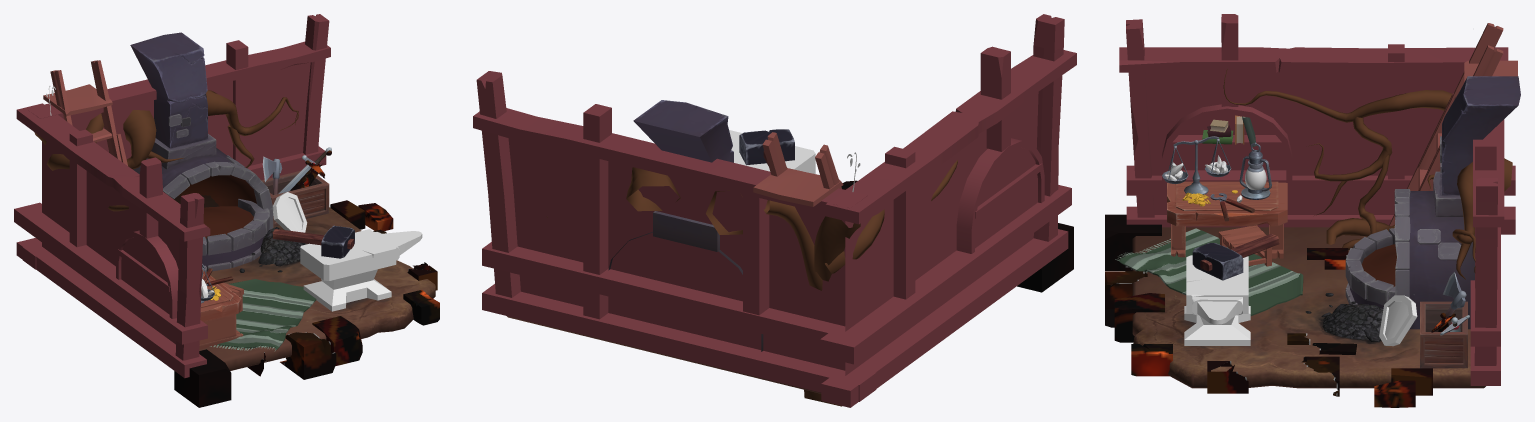
File: Forge_SketchFab.fbx
The picture shows the model from 3 angles, left to right: view 1: azimuth 30°, elevation 25°; view 2: azimuth 150°, elevation 25°; view 3: azimuth 270°, elevation 25°; orthographic projection. The views are drawn at different scales.
Visible parts, largest first — view 1: Walls, Oven, Blocks, Ground, Forge, Carpet, Roots, bookshelf, Stairs, Table, Box, Hammer (+5 smaller); view 2: Walls, bookshelf, Oven, Roots, Stairs, Blocks, Hammer, Forge, Ground; view 3: Walls, Ground, Oven, Blocks, Roots, bookshelf, Table, Forge, Carpet, Stairs, Box, Hammer (+8 smaller).
Part boxes in pixels (<box>): Walls: <box>14,14,330,378</box>; Oven: <box>130,32,273,271</box>; Blocks: <box>174,200,439,407</box>; Ground: <box>199,207,435,370</box>; Forge: <box>300,229,422,311</box>; Carpet: <box>210,279,316,351</box>; Roots: <box>34,90,298,211</box>; bookshelf: <box>116,230,178,318</box>; Stairs: <box>43,60,127,165</box>; Table: <box>199,269,243,349</box>; Box: <box>261,170,329,226</box>; Hammer: <box>272,225,354,258</box>; Walls: <box>473,14,1076,407</box>; bookshelf: <box>956,138,1044,253</box>; Oven: <box>608,100,763,351</box>; Roots: <box>547,160,957,406</box>; Stairs: <box>753,132,843,206</box>; Blocks: <box>841,180,1073,292</box>; Hammer: <box>739,129,794,167</box>; Forge: <box>729,130,815,173</box>; Ground: <box>507,316,821,393</box>; Walls: <box>1119,14,1515,385</box>; Ground: <box>1132,227,1485,388</box>; Oven: <box>1345,76,1520,330</box>; Blocks: <box>1105,214,1432,407</box>; Roots: <box>1223,68,1512,279</box>; bookshelf: <box>1162,104,1292,186</box>; Table: <box>1167,181,1287,258</box>; Forge: <box>1184,255,1250,345</box>; Carpet: <box>1115,228,1303,315</box>; Stairs: <box>1389,23,1517,226</box>; Box: <box>1420,301,1467,368</box>; Hammer: <box>1192,233,1279,280</box>.
Size of the model in its own units: 1209 by 759 by 1173.
